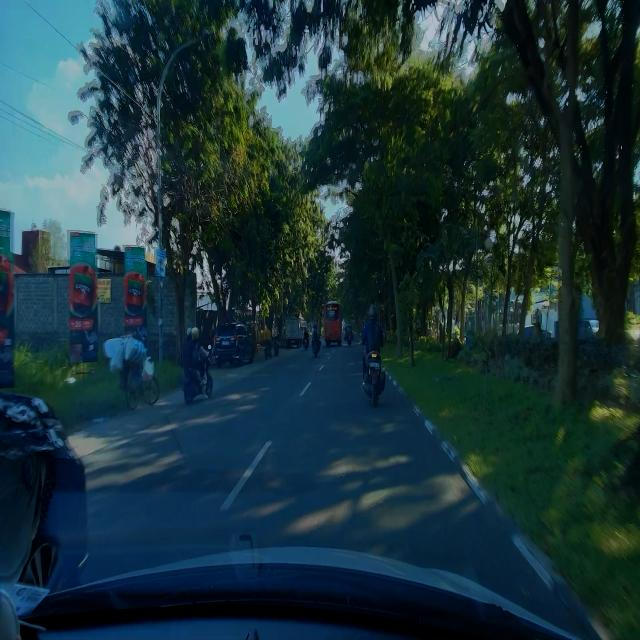bus: (324, 301, 342, 347)
car: (213, 321, 254, 368)
